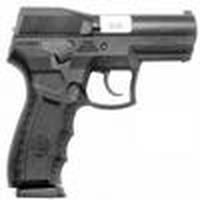gun: (5, 7, 196, 199)
